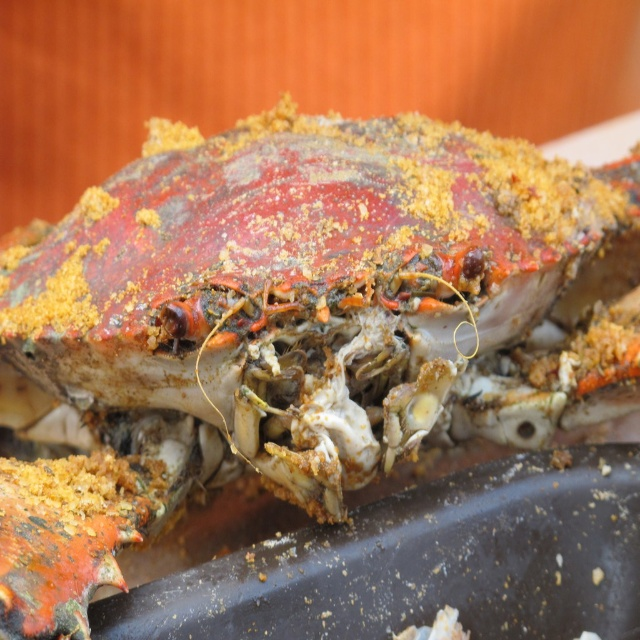Crab: (0, 90, 640, 640)
